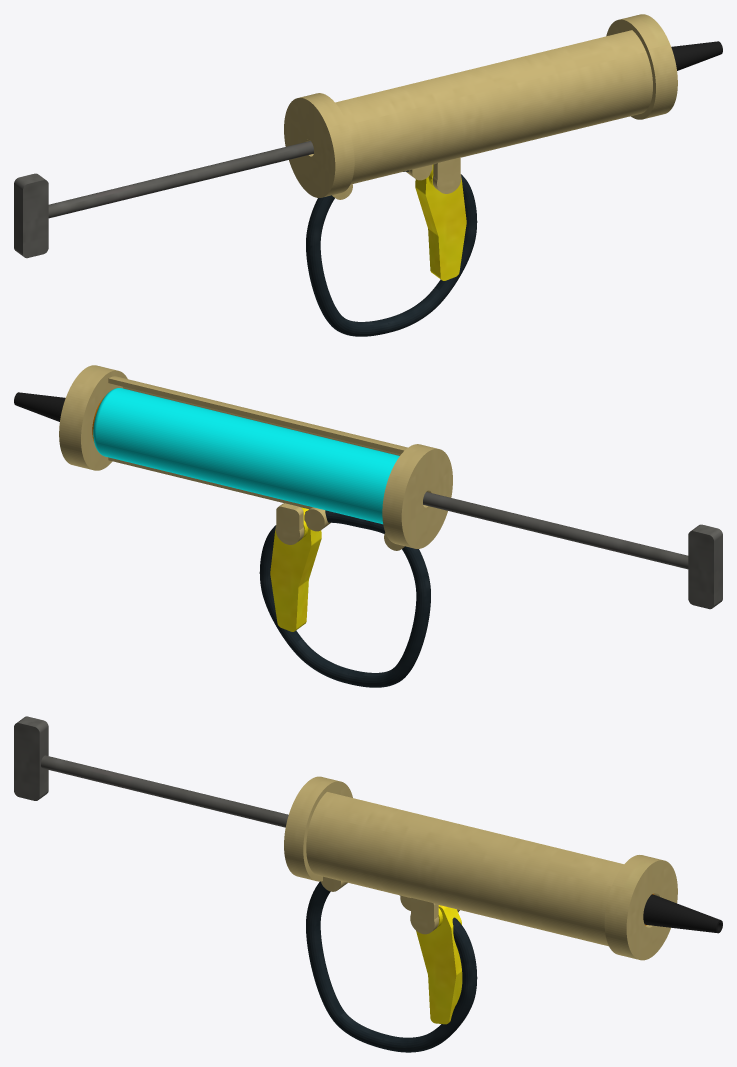
The model's file is Handtools_caulking_gun__0031.glb.
3 renders of one model, top to bottom at view 1: azimuth 30°, elevation 25°; view 2: azimuth 150°, elevation 25°; view 3: azimuth 330°, elevation 25°, orthographic.
Visible parts, largest first — view 1: frame::frame_shell, plunger::plunger_rod, frame::dring_loop, trigger::trigger_blade, cartridge::nozzle; view 2: cartridge::cartridge_body, frame::frame_shell, plunger::plunger_rod, frame::dring_loop, trigger::trigger_blade, cartridge::nozzle; view 3: frame::frame_shell, plunger::plunger_rod, frame::dring_loop, trigger::trigger_blade, cartridge::nozzle.
Part boxes in pixels (bbox=[...]): frame::frame_shell: bbox=[284, 14, 677, 199]; plunger::plunger_rod: bbox=[14, 141, 313, 258]; frame::dring_loop: bbox=[306, 170, 477, 336]; trigger::trigger_blade: bbox=[415, 164, 466, 280]; cartridge::nozzle: bbox=[671, 41, 722, 70]; cartridge::cartridge_body: bbox=[93, 388, 399, 524]; frame::frame_shell: bbox=[59, 365, 452, 550]; plunger::plunger_rod: bbox=[423, 492, 722, 609]; frame::dring_loop: bbox=[259, 510, 430, 687]; trigger::trigger_blade: bbox=[270, 507, 321, 631]; cartridge::nozzle: bbox=[14, 392, 65, 421]; frame::frame_shell: bbox=[284, 776, 677, 960]; plunger::plunger_rod: bbox=[14, 716, 288, 827]; frame::dring_loop: bbox=[306, 881, 477, 1052]; trigger::trigger_blade: bbox=[416, 905, 462, 1024]; cartridge::nozzle: bbox=[643, 894, 722, 933].
Size of the model in its own units: 0.5445 by 0.1855 by 0.069.
Materials: 7 (4 with a texture image).
